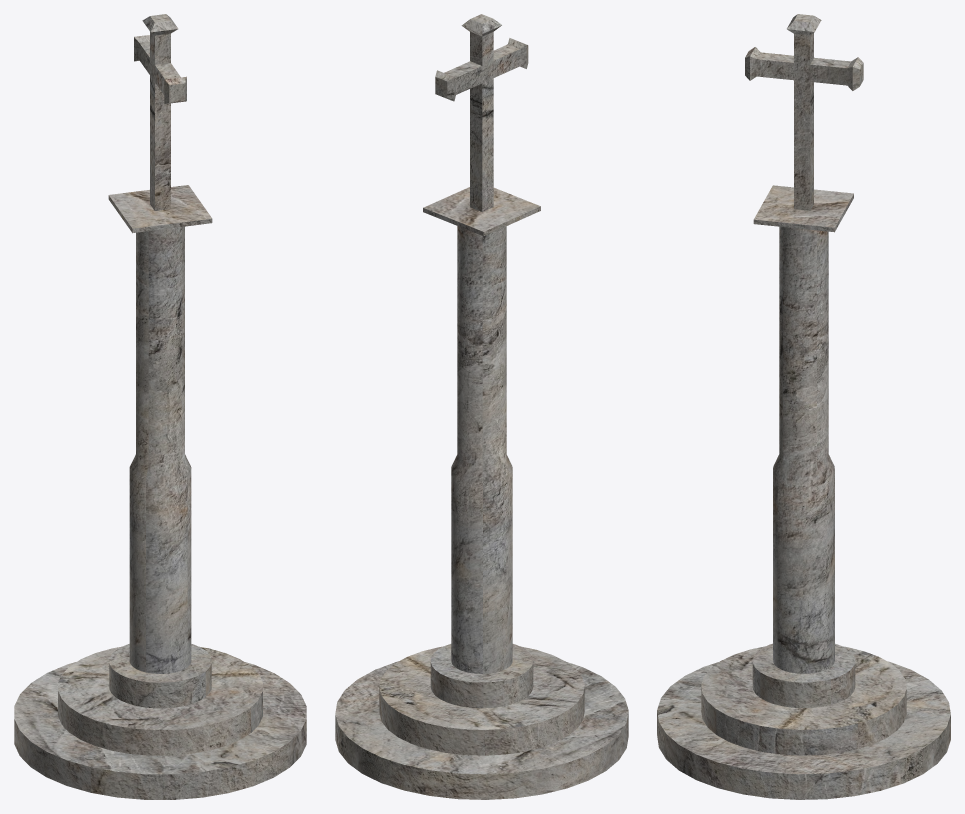
Rendered from pelourinho_export.gltf.
3 renders of one model, left to right at view 1: azimuth 30°, elevation 25°; view 2: azimuth 150°, elevation 25°; view 3: azimuth 270°, elevation 25°, orthographic.
Parts seen in each view (by area): view 1: Cylinder; view 2: Cylinder; view 3: Cylinder.
Boxes of the visible parts, <box> form: Cylinder: <box>14,14,306,799</box>; Cylinder: <box>335,14,628,799</box>; Cylinder: <box>657,14,950,799</box>.
Bounding box in the file's own units: 22.78 × 61.59 × 22.78.
1 material, 1 textured.
